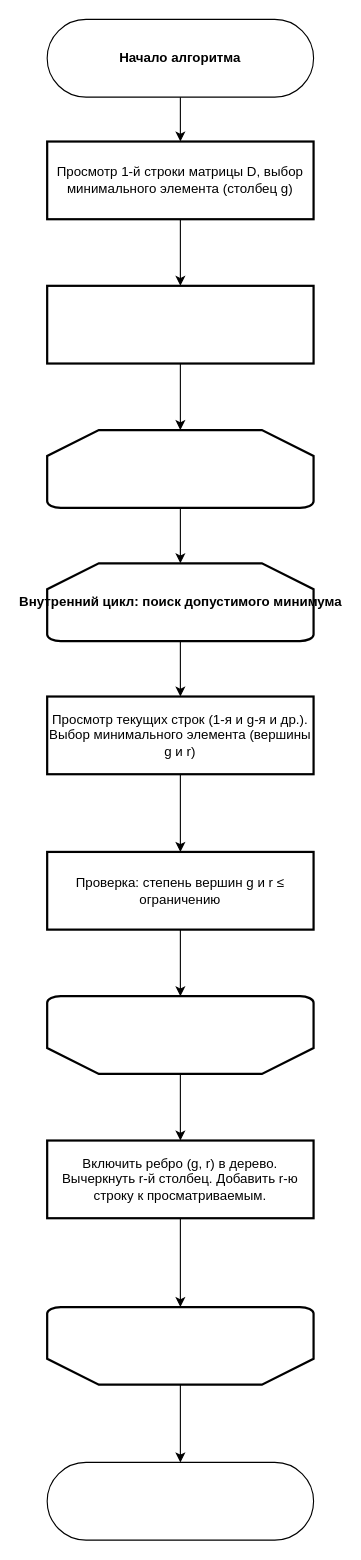
Image size: 361x1560. Some labels were removed from this diagram. Here are the shapes that lost their labels. From the top down, the centre of each, then its label:
At point (180, 324): "Исключить столбцы 1 и g. Построить ребро (1, g)".
At point (180, 468): "Внешний цикл: не все строки включены".
At point (180, 1500): "Конец алгоритма".
